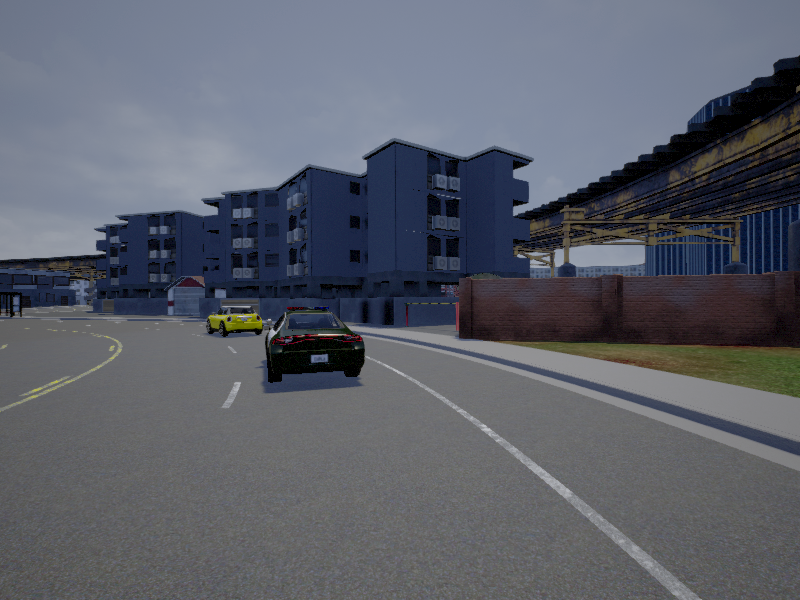Benign: (265, 307, 367, 387), (205, 304, 264, 337)
